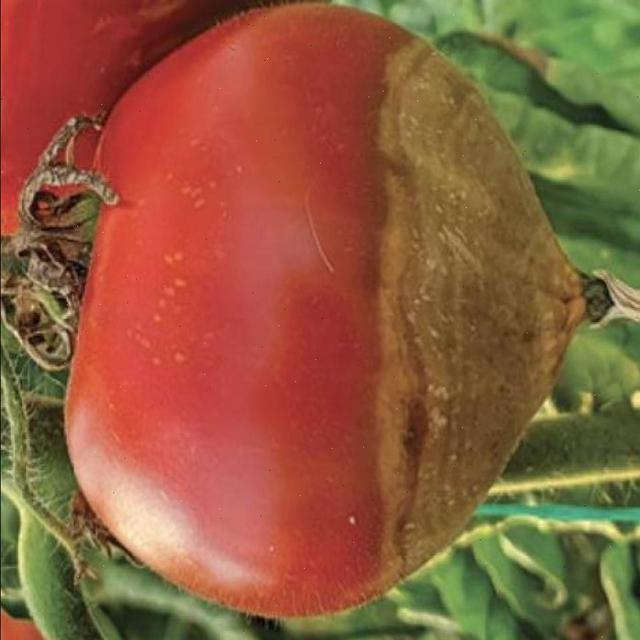Blossom End Rot Fruit: (246, 7, 409, 402)
